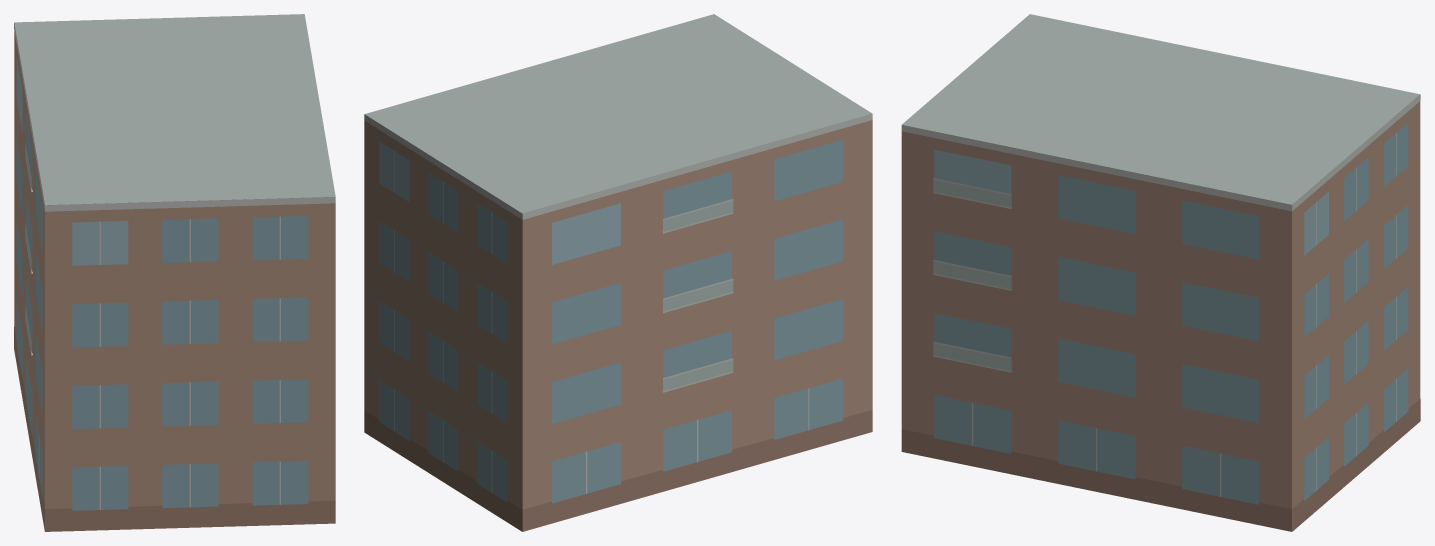
Rendered from survey-upis-32697211.glb.
3 renders of one model, left to right at view 1: azimuth 30°, elevation 25°; view 2: azimuth 150°, elevation 25°; view 3: azimuth 270°, elevation 25°, orthographic. The views are drawn at different scales.
Visible parts, largest first — view 1: survey-upis-32697211.tmp; view 2: survey-upis-32697211.tmp; view 3: survey-upis-32697211.tmp.
Boxes of the visible parts, <box> form: survey-upis-32697211.tmp: <box>14,14,335,531</box>; survey-upis-32697211.tmp: <box>364,14,872,531</box>; survey-upis-32697211.tmp: <box>901,14,1420,531</box>.
Bounding box in the file's own units: 15.28 × 12.2 × 17.55.
